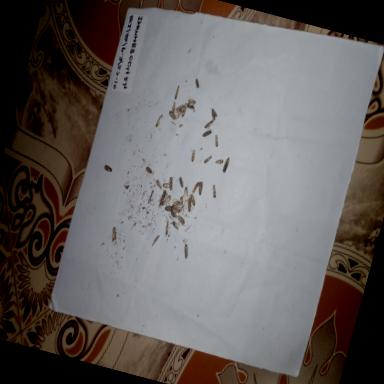pbw: (180, 242, 192, 262), (108, 226, 120, 244), (208, 183, 219, 200), (221, 157, 231, 175), (195, 180, 205, 198), (172, 84, 182, 102), (154, 113, 164, 130), (150, 232, 160, 249), (208, 108, 220, 122), (184, 197, 194, 213), (153, 178, 164, 192), (161, 194, 172, 208), (203, 117, 214, 131), (158, 190, 167, 207), (190, 180, 200, 195), (102, 164, 114, 176), (169, 220, 181, 232), (166, 176, 175, 192), (192, 77, 202, 91), (188, 194, 198, 208), (162, 220, 170, 237), (182, 186, 190, 202), (177, 196, 185, 212), (188, 149, 196, 164), (180, 103, 188, 118), (176, 176, 186, 188), (203, 154, 213, 166), (167, 110, 177, 122), (184, 103, 196, 113), (212, 134, 220, 149), (170, 101, 178, 116), (174, 103, 184, 115), (202, 128, 212, 139), (176, 215, 186, 226), (214, 156, 225, 166), (170, 204, 181, 214), (147, 190, 154, 205), (174, 109, 182, 121), (162, 181, 172, 190), (144, 166, 154, 175), (186, 98, 196, 107), (162, 205, 172, 214), (170, 210, 178, 220), (172, 199, 180, 207)
